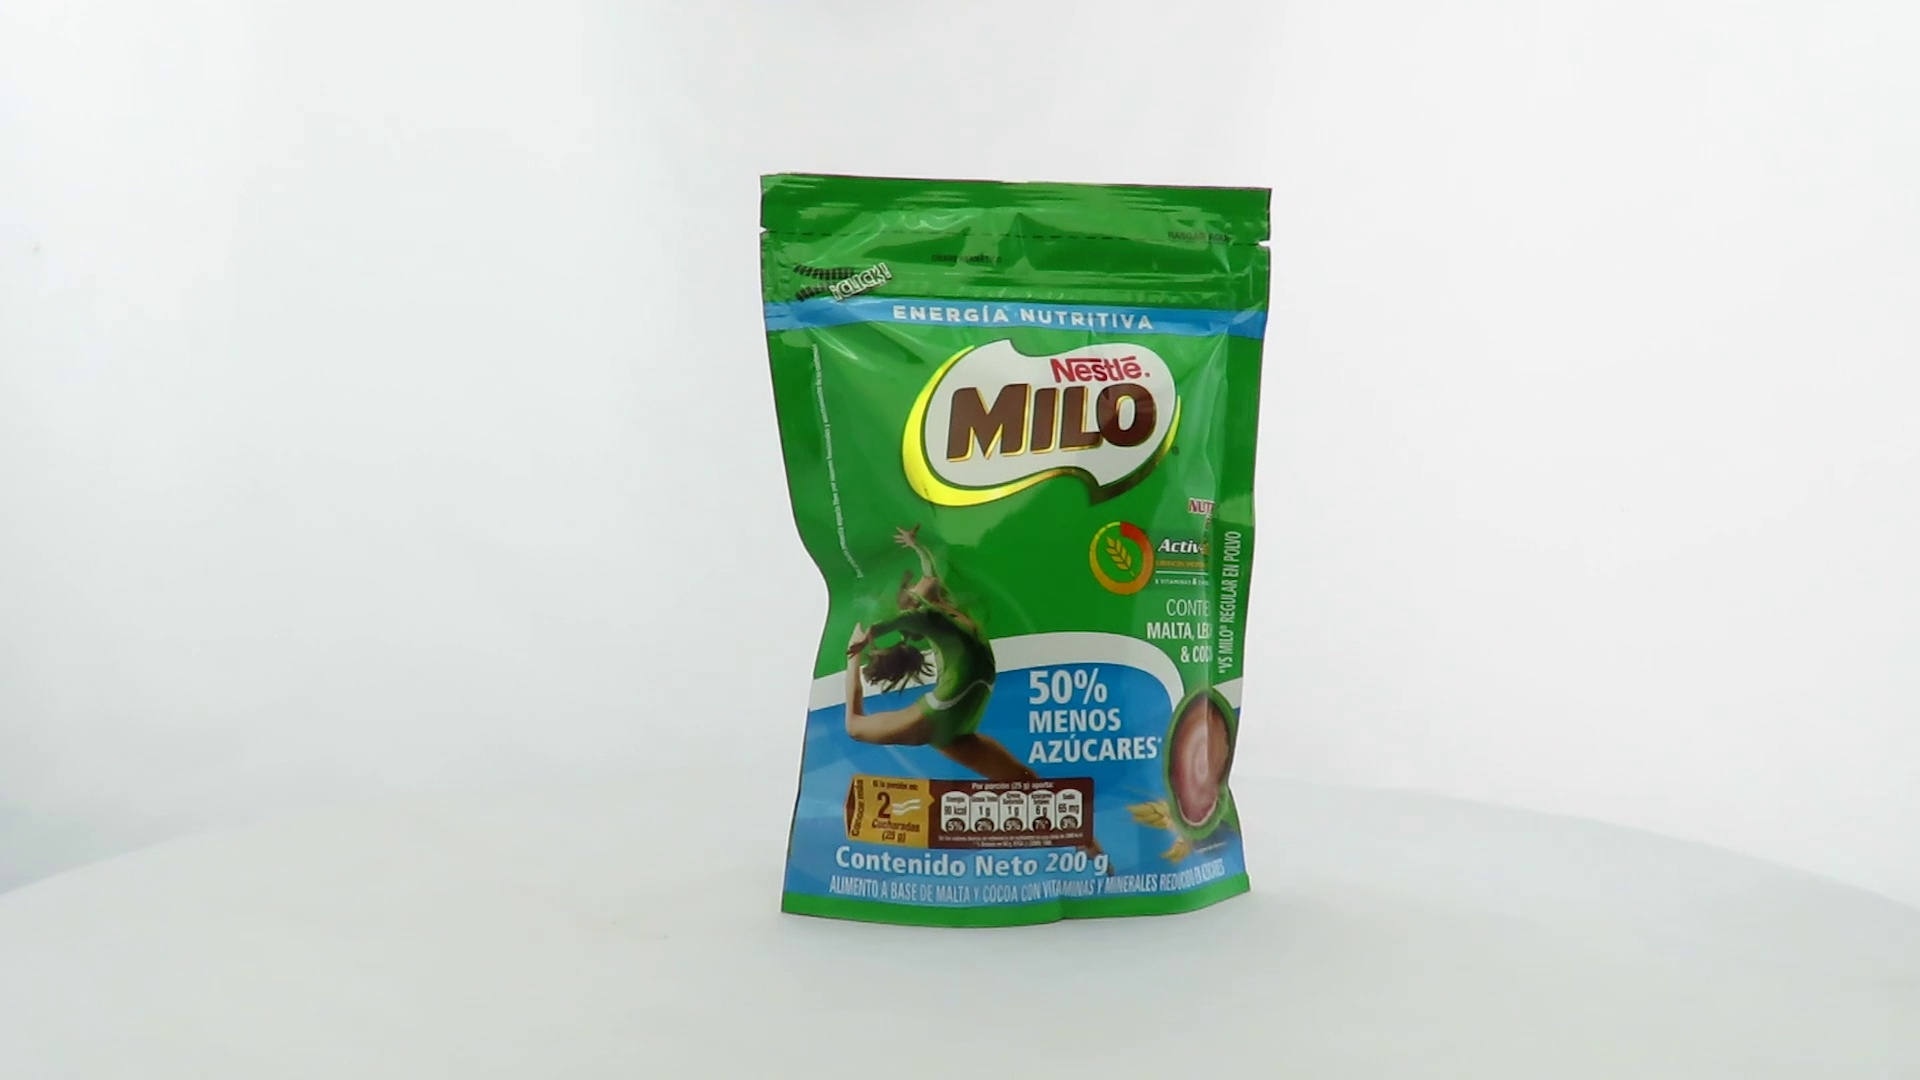COL0170205DYP20000: (754, 167, 1278, 935)
